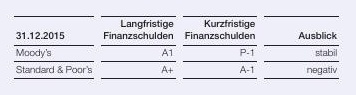table: (0, 0, 356, 95)
